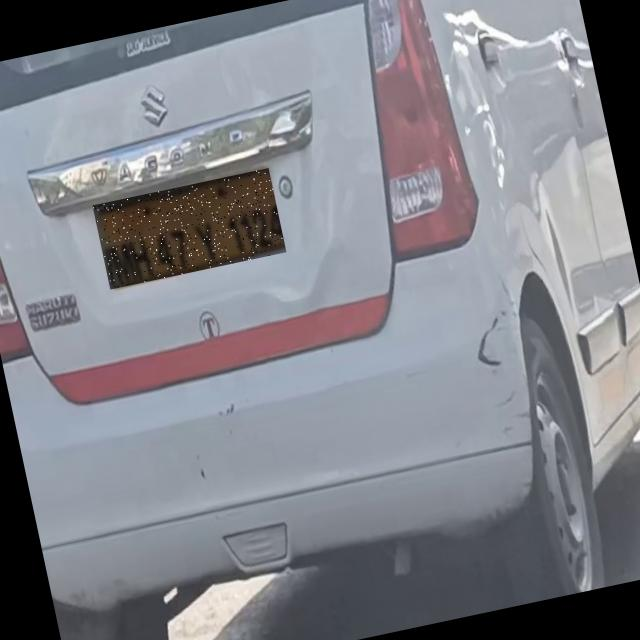Plate: (93, 168, 287, 290)
